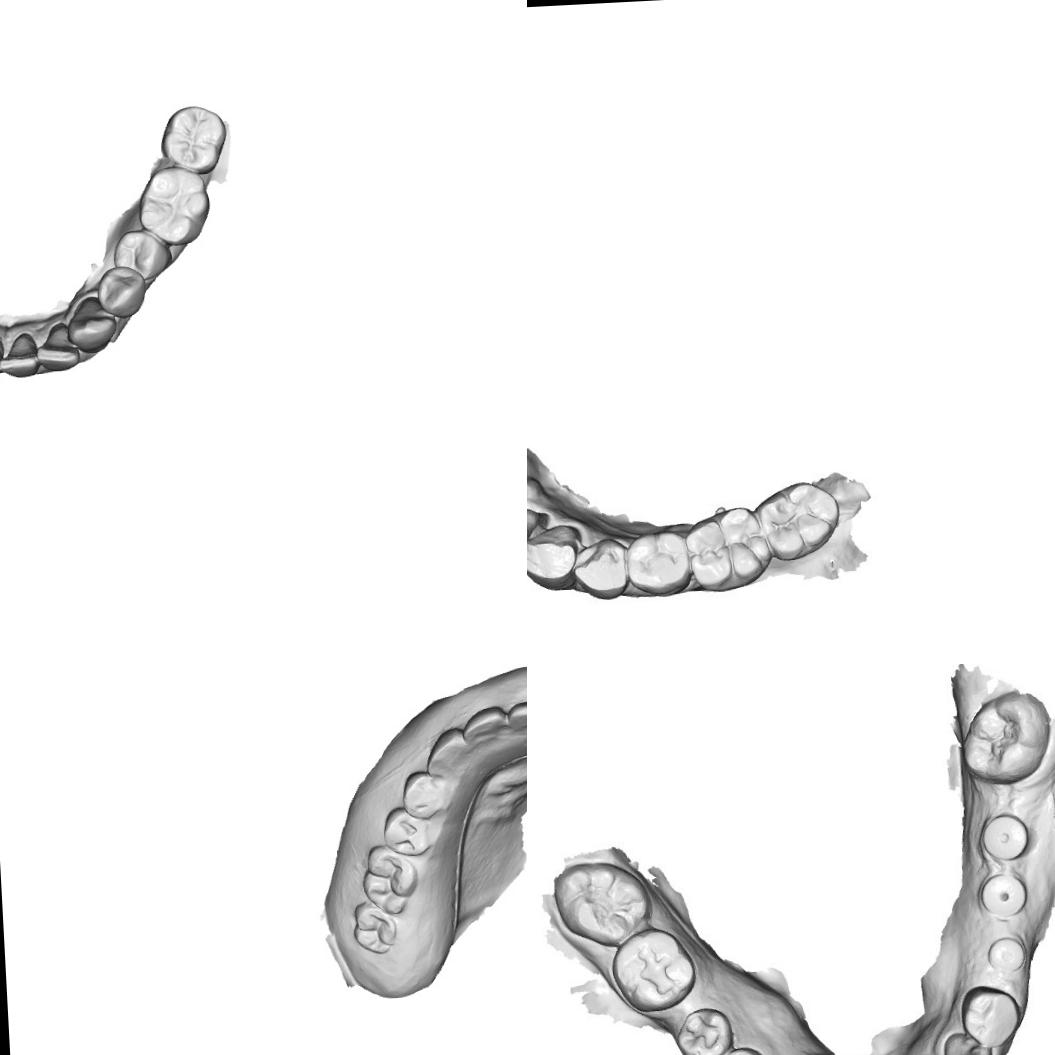canine: (64, 293, 119, 355), (527, 522, 580, 582), (420, 724, 476, 778), (940, 1028, 995, 1055)
implant: (979, 811, 1037, 865), (977, 866, 1030, 924), (980, 931, 1032, 977)
incisor: (34, 318, 81, 373), (460, 700, 510, 750), (0, 329, 40, 379), (527, 501, 552, 551), (505, 692, 527, 736)
molar: (955, 690, 1055, 790), (547, 858, 652, 950), (607, 924, 700, 1015), (134, 162, 212, 248), (756, 482, 841, 558), (688, 508, 770, 586), (158, 103, 230, 177), (359, 841, 421, 916), (348, 899, 400, 956)
premolar: (624, 530, 694, 599), (570, 538, 632, 602), (957, 982, 1019, 1045), (111, 227, 173, 282), (672, 1002, 733, 1055), (94, 263, 148, 319), (398, 766, 452, 822), (380, 802, 433, 858)
